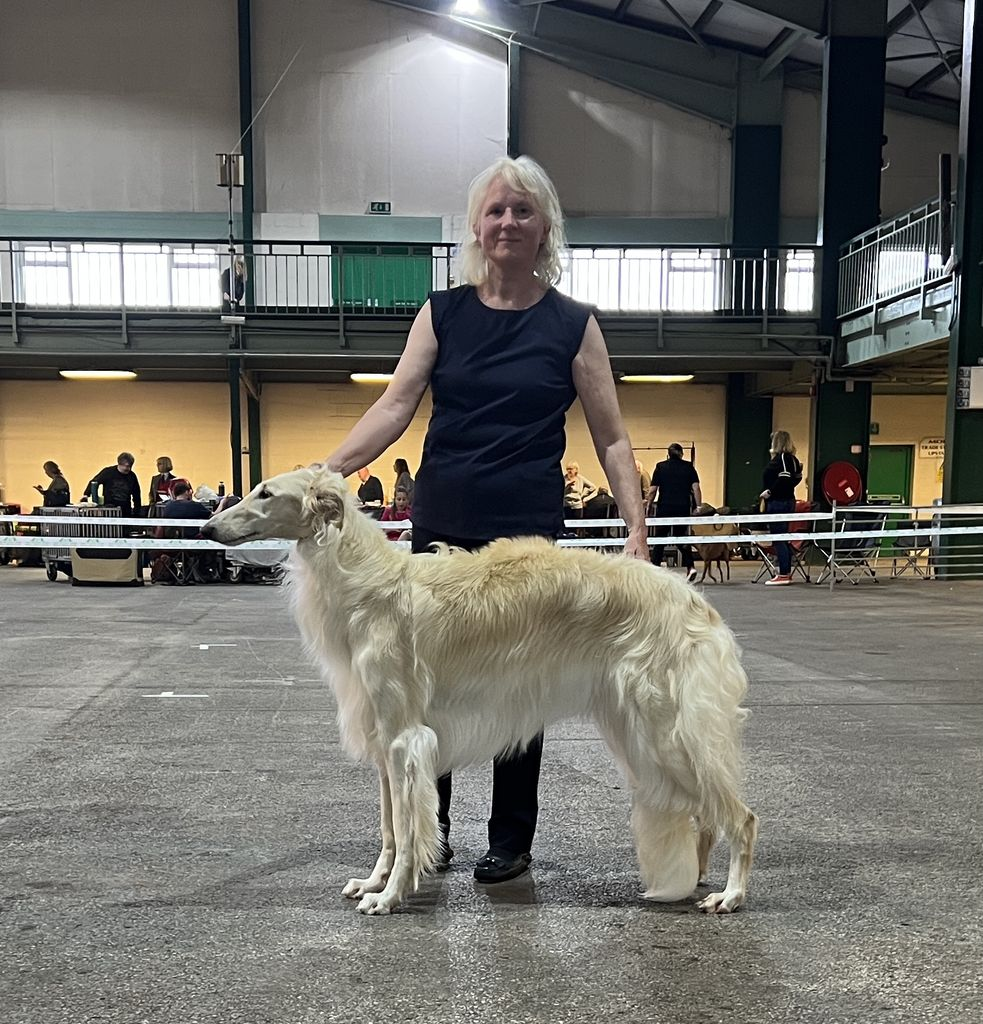borzoi: (187, 464, 774, 926)
